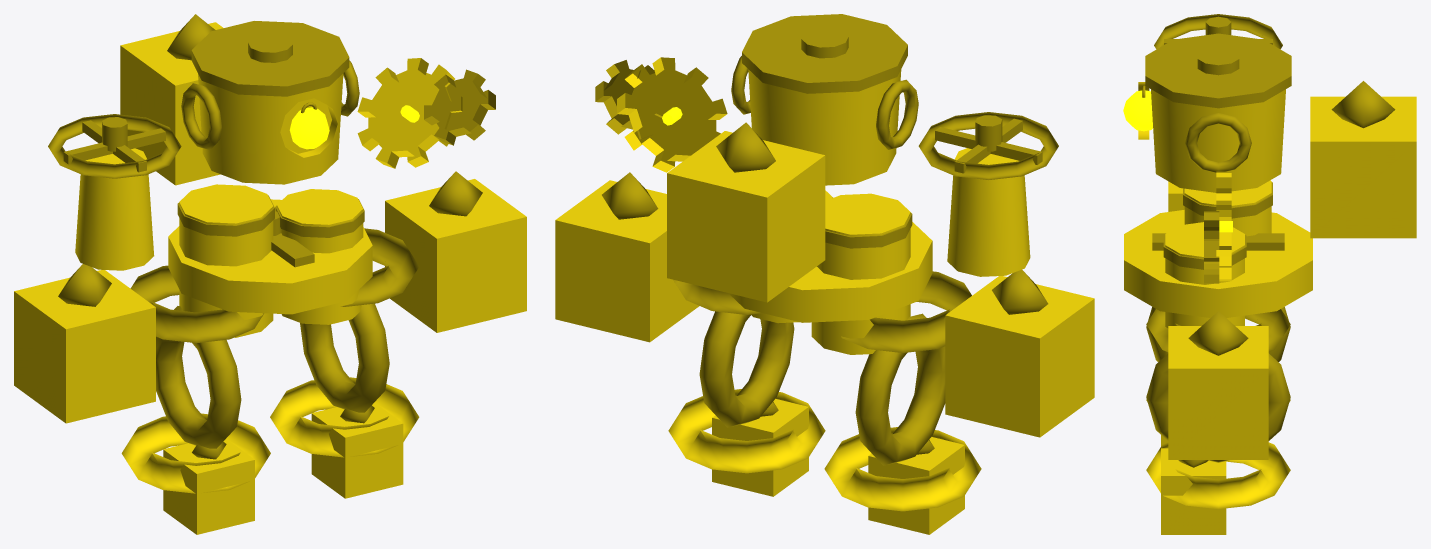
The model's file is golem_082.glb.
The picture shows the model from 3 angles, left to right: view 1: azimuth 30°, elevation 25°; view 2: azimuth 150°, elevation 25°; view 3: azimuth 270°, elevation 25°; orthographic projection. The views are drawn at different scales.
Parts seen in each view (by area): view 1: Body, Detail, Glow; view 2: Body, Detail; view 3: Body, Detail, Glow.
Part boxes in pixels (box(x1,y1,x2,y2)): Body: box(14, 22, 526, 534); Detail: box(48, 14, 495, 459); Glow: box(289, 105, 419, 149); Body: box(555, 57, 1094, 534); Detail: box(595, 14, 1058, 465); Body: box(1124, 82, 1416, 534); Detail: box(1142, 14, 1395, 467); Glow: box(1123, 90, 1232, 232).
Size of the model in its own units: 1.35 by 1.25 by 0.7723.
